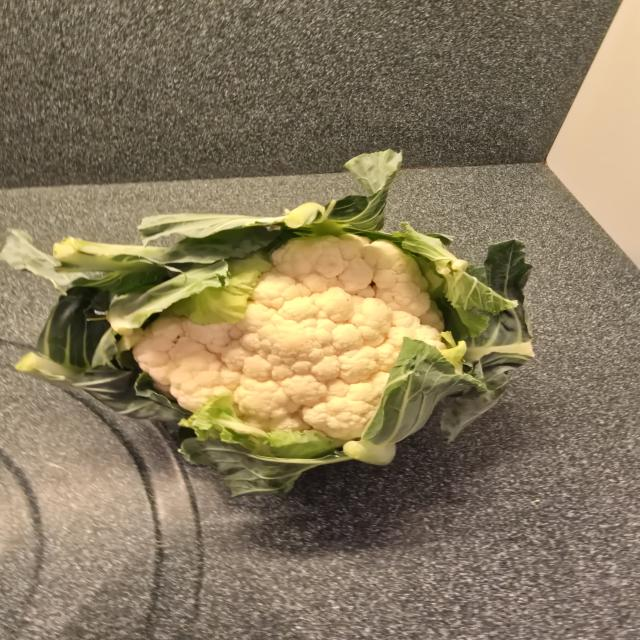Cauliflower: (46, 187, 546, 495)
